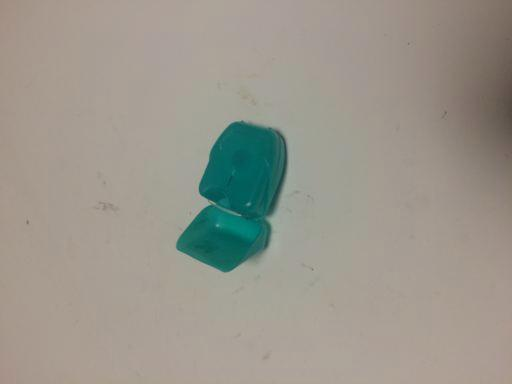trash: (175, 122, 287, 274)
